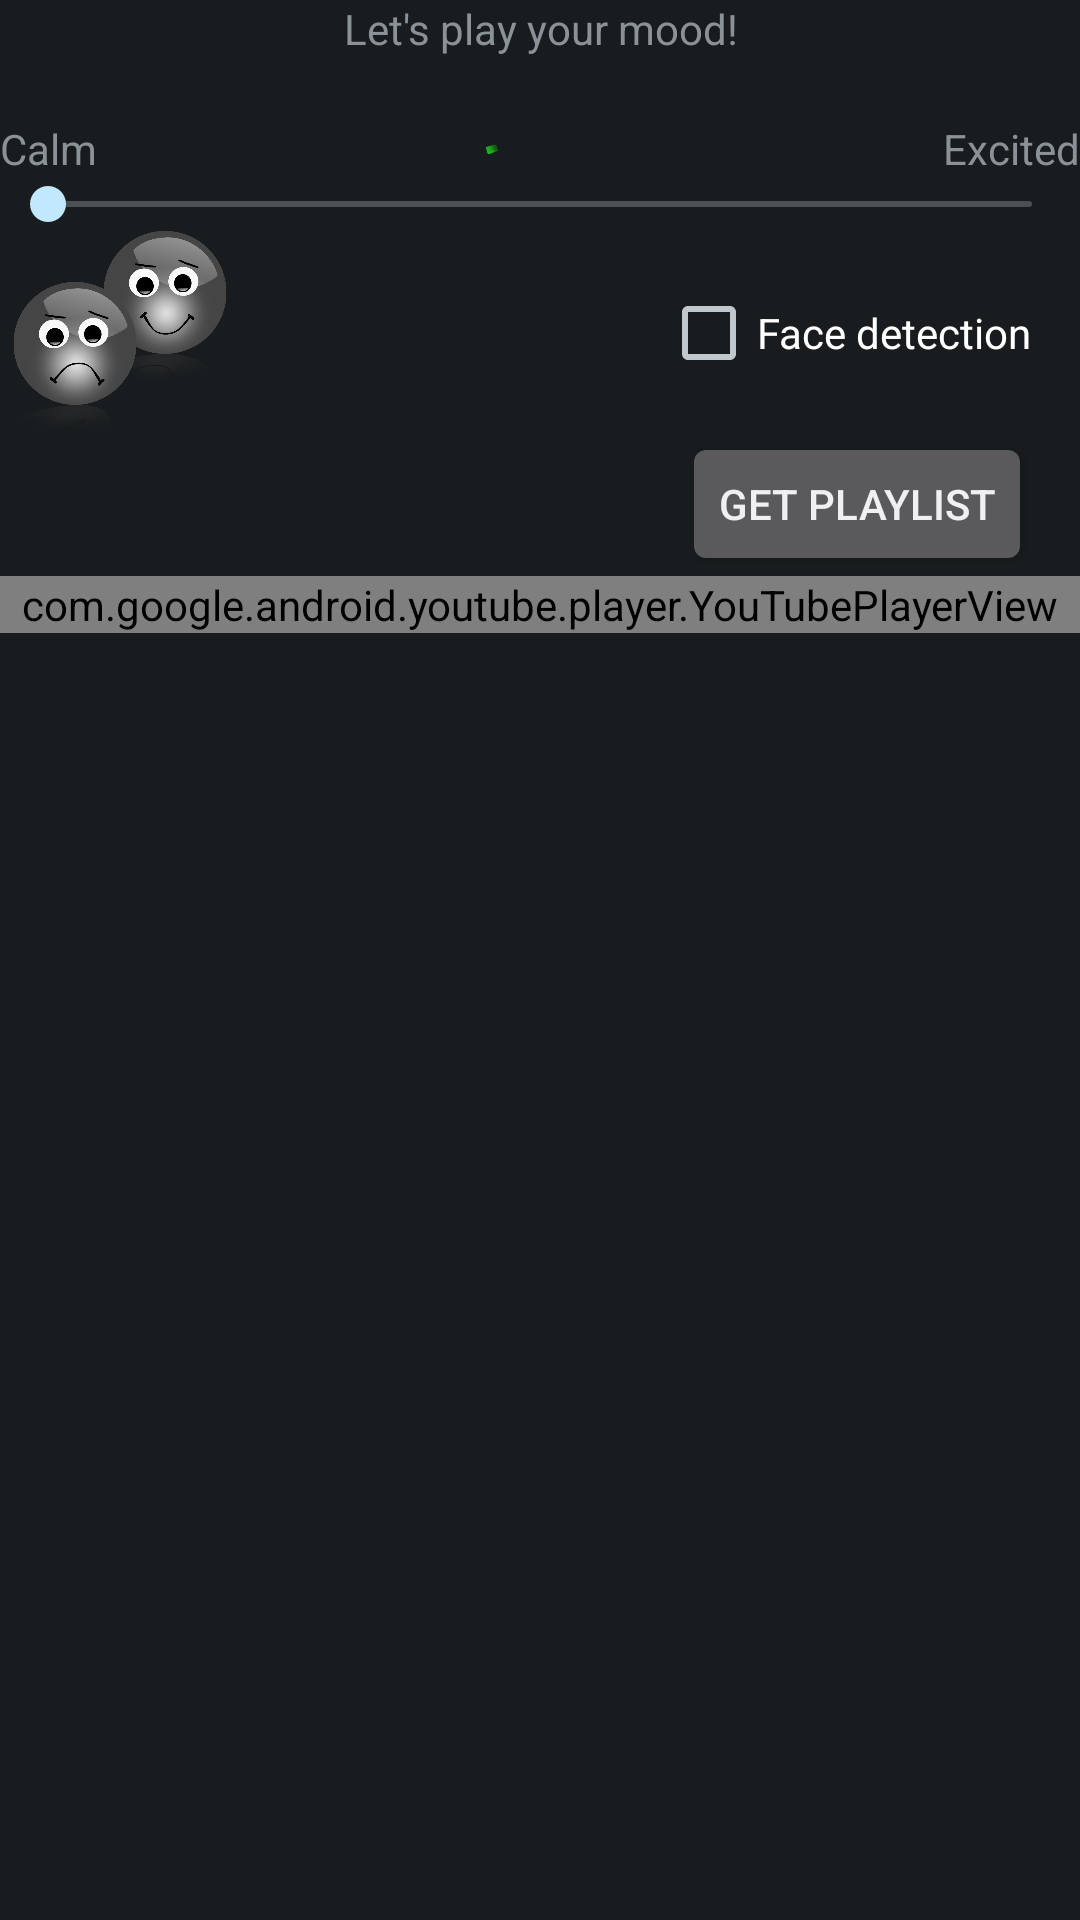

Icon bounding boxes for this 1080*1920 phone screenshot, format [x1,y1,x2,y2]:
happy bw: [90,231,226,381]
sad bw: [14,282,150,405]
